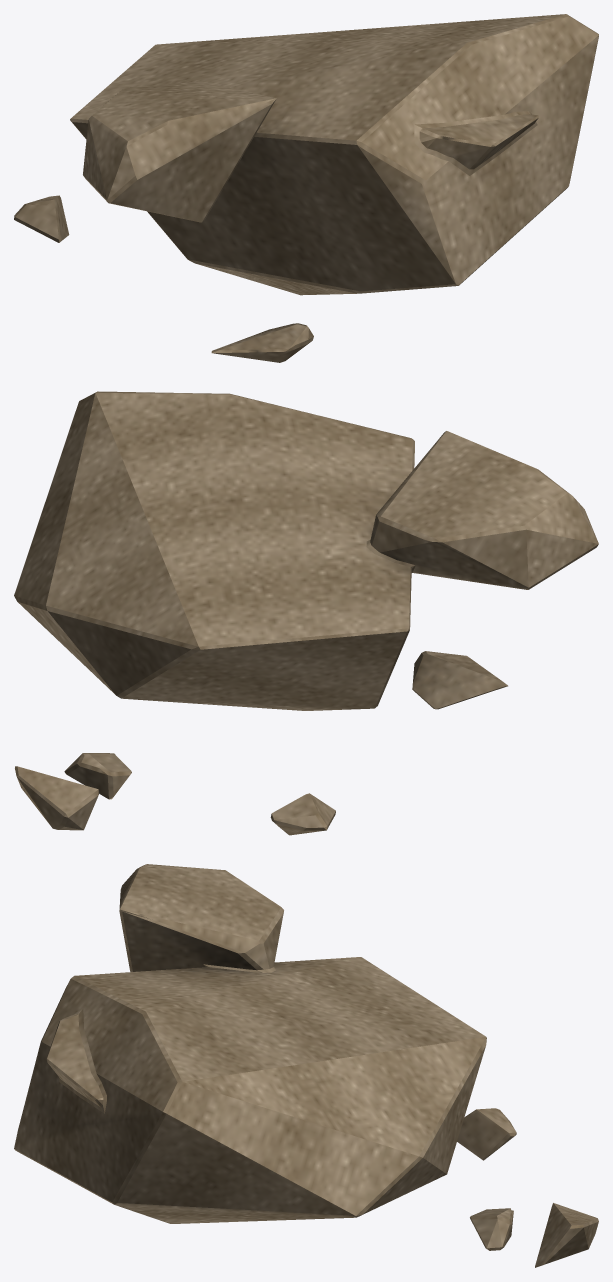
The model's file is boulder_5.glb.
3 views of the same model, one above another, from view 1: azimuth 30°, elevation 25°; view 2: azimuth 150°, elevation 25°; view 3: azimuth 270°, elevation 25° (orthographic).
Visible parts, largest first — view 1: boulder_5_c0; view 2: boulder_5_c0; view 3: boulder_5_c0.
Boxes of the visible parts, x1,y1,x2,y2 form: boulder_5_c0: [14, 14, 598, 362]; boulder_5_c0: [14, 391, 598, 835]; boulder_5_c0: [14, 864, 598, 1267].
Bounding box in the file's own units: 1.71 × 0.877 × 1.73.
1 material, 1 textured.
